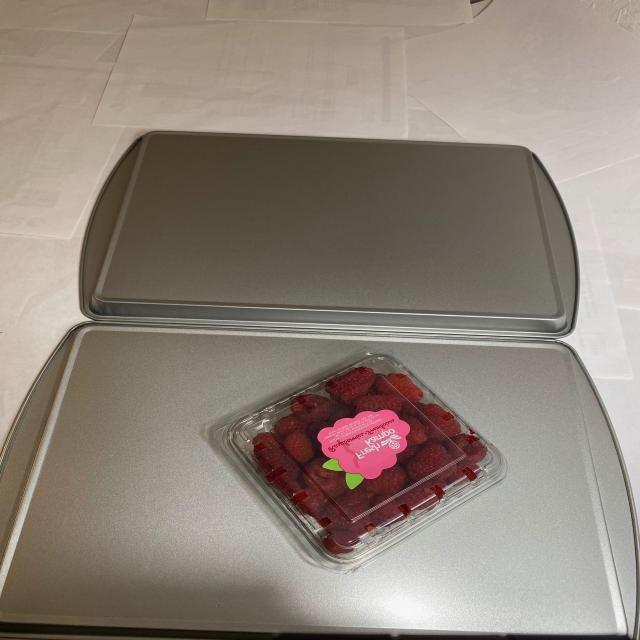raspberries: (251, 370, 489, 552)
